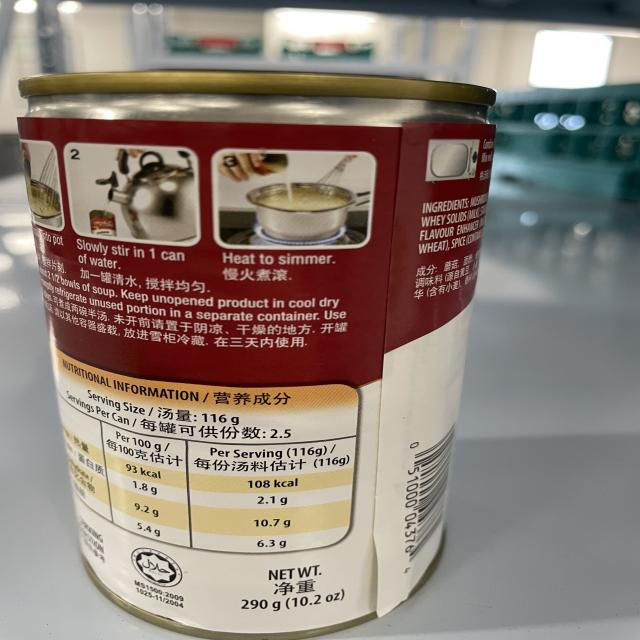object_name: (44, 81, 453, 635)
